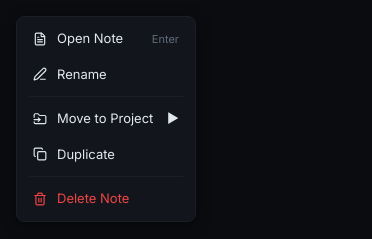
it: NoteContextMenu › Move to Project submenu › shows submenu on hover over Move to Project
Hover over the text "Move to Project" at (106, 119), box left=21, top=101, right=191, bottom=136
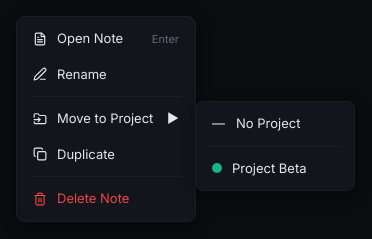
Expected: the text "No Project" is shown, left=236, top=114, right=300, bottom=134
Expected: the text "Project Beta" is shown, left=232, top=158, right=306, bottom=178
